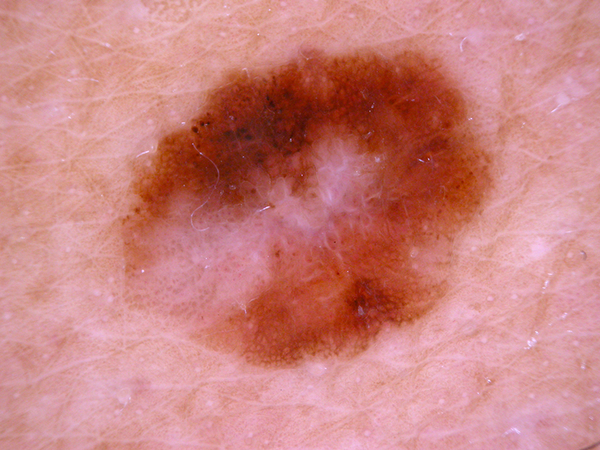Detected Lesion: (107, 43, 499, 369)
